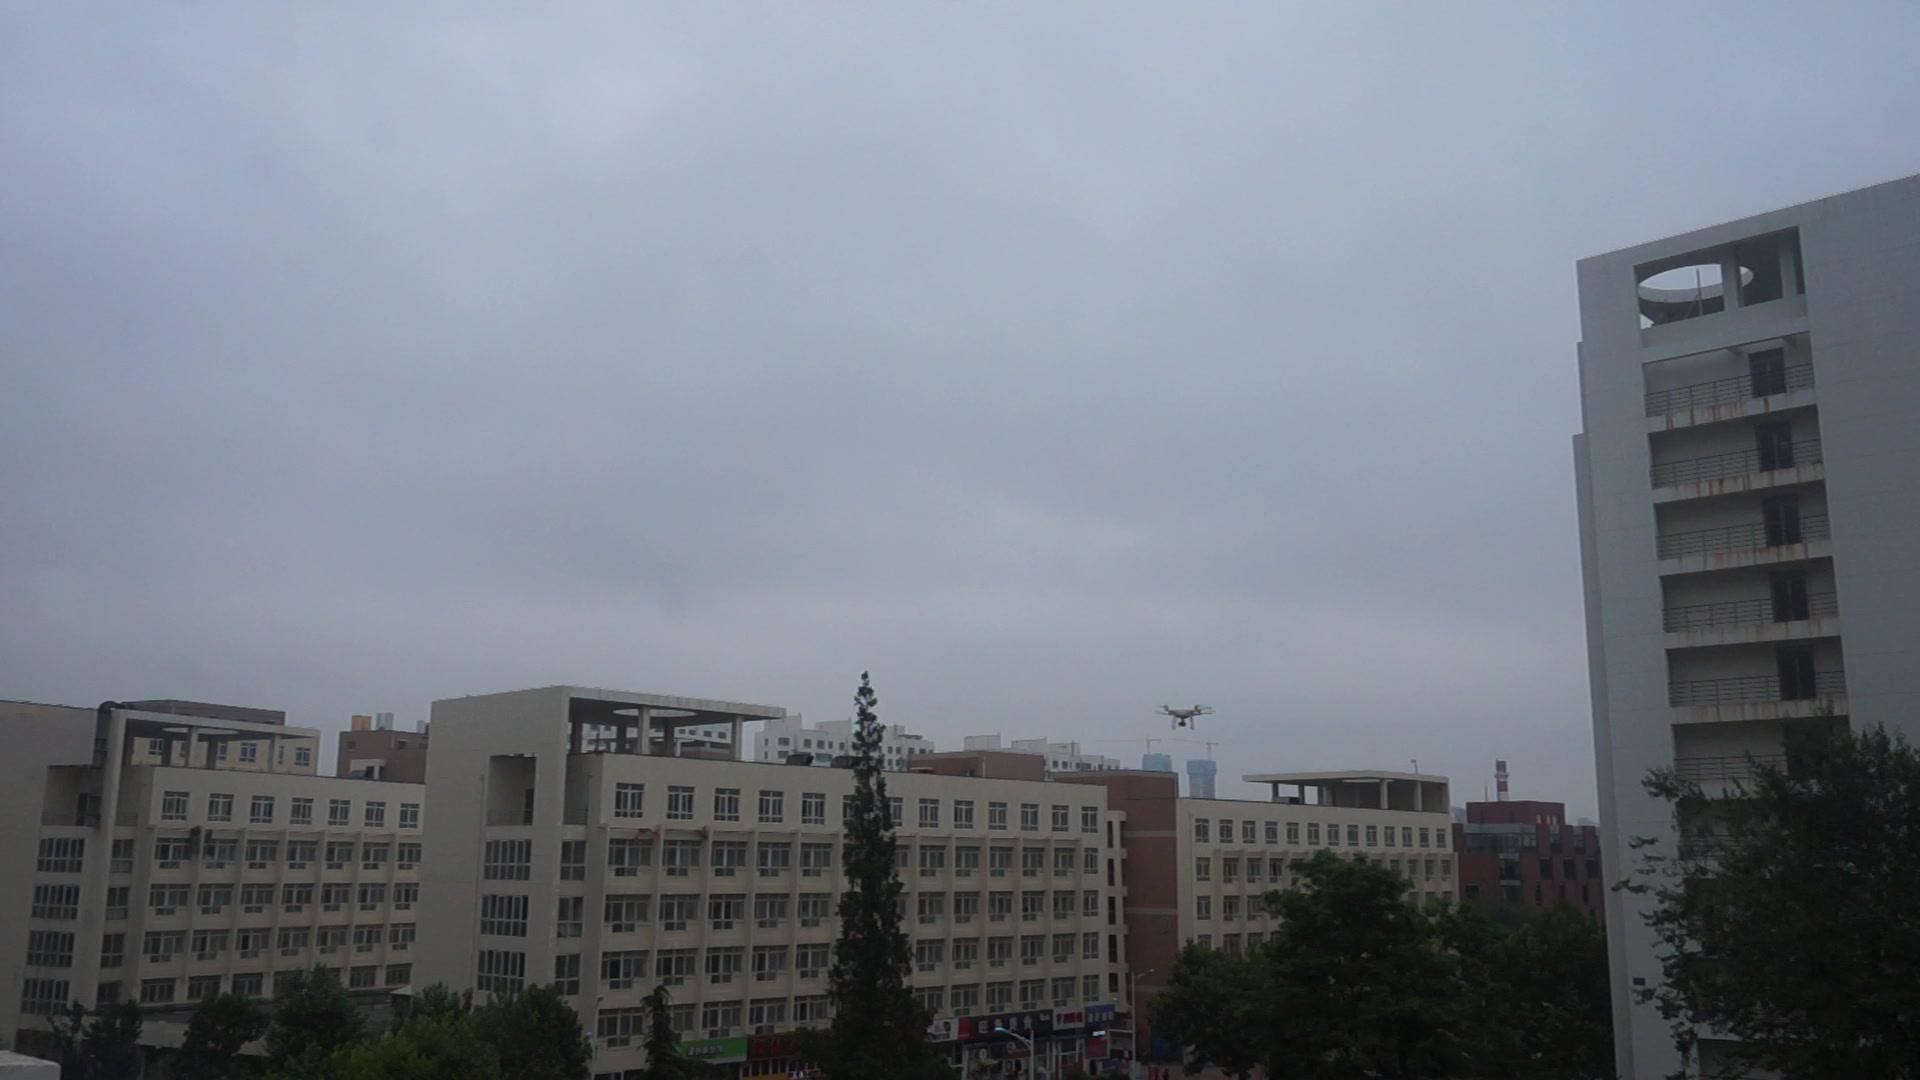UAV: (1155, 705, 1217, 731)
